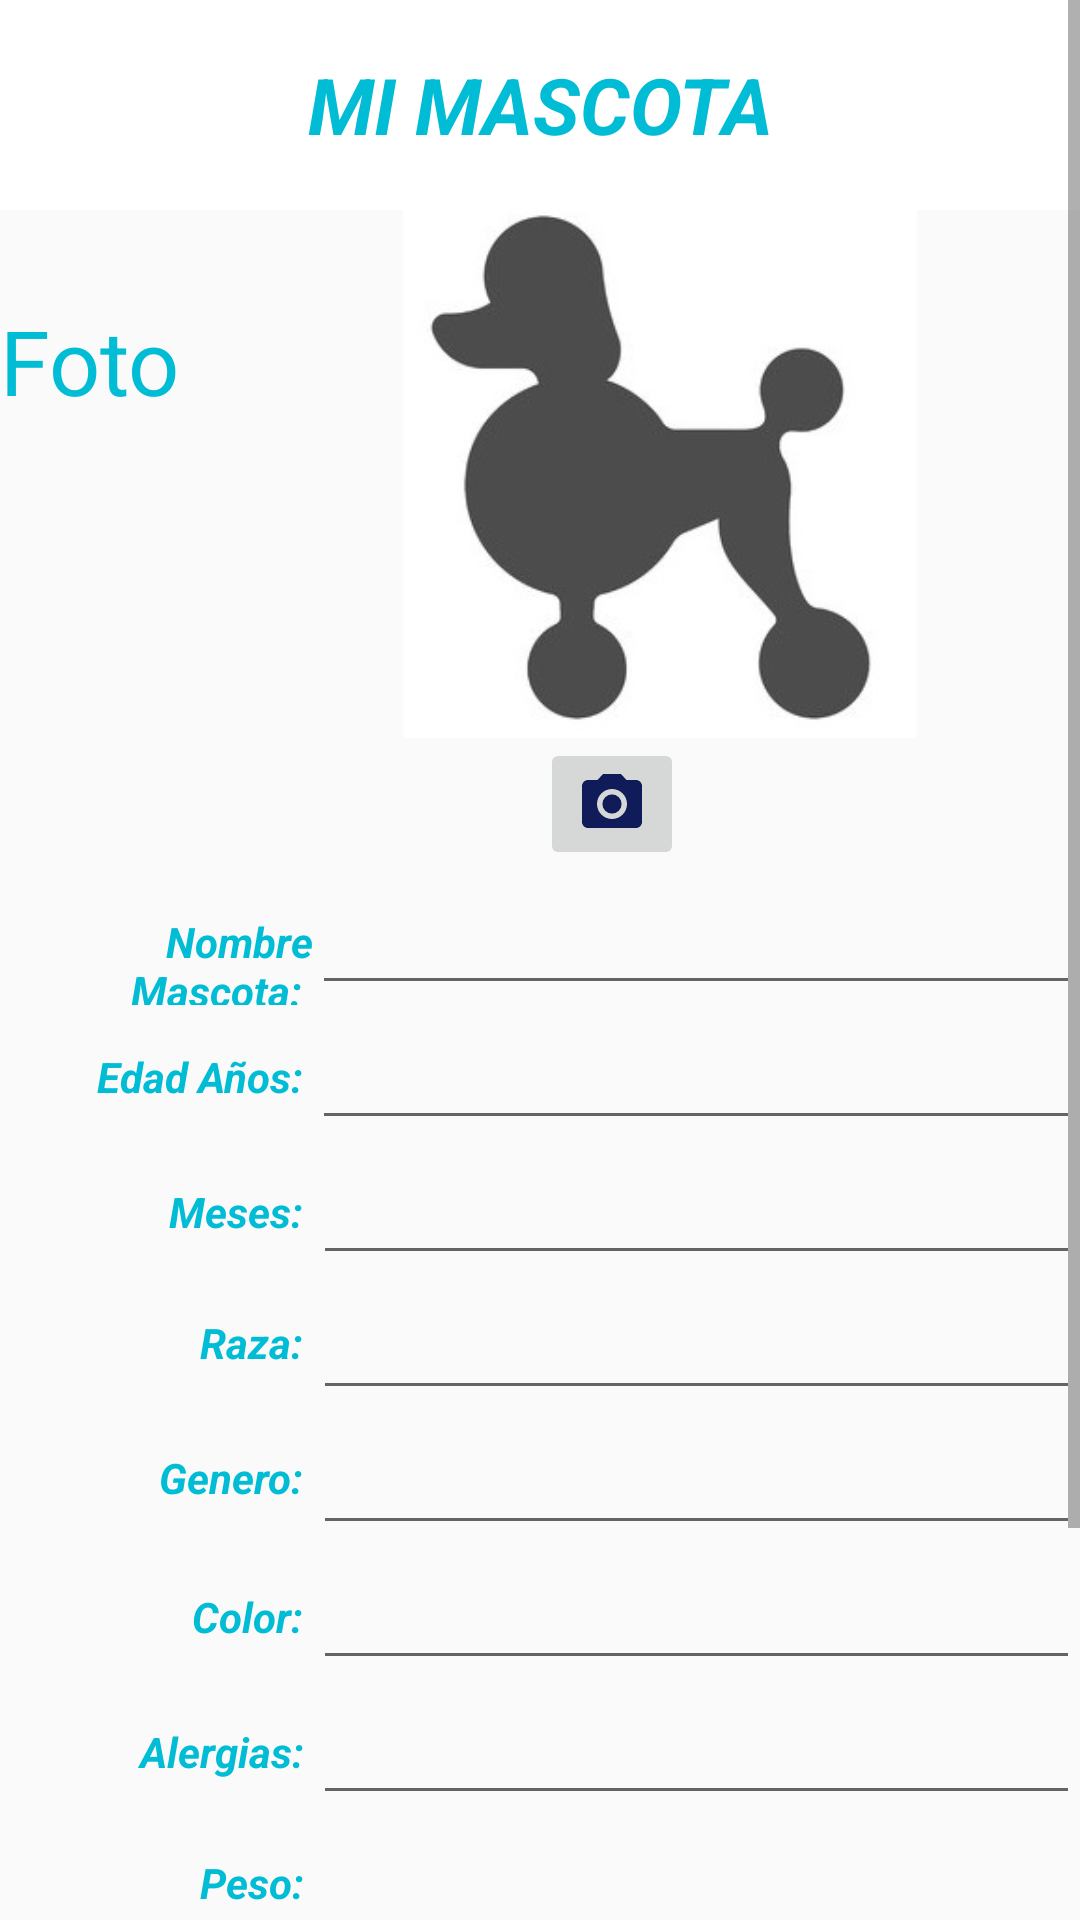

Named icons in this screenshot (1080w x 1920h) and their bounding boxes, (x1,y1,x2,y2):
camera: (552,756,672,852)
